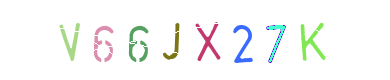2: (209, 0, 289, 80)
6: (99, 0, 179, 80), (112, 0, 192, 80)
7: (236, 0, 316, 80)
J: (155, 0, 235, 80)
K: (270, 0, 350, 80)
V: (86, 0, 166, 80)
X: (167, 0, 247, 80)
